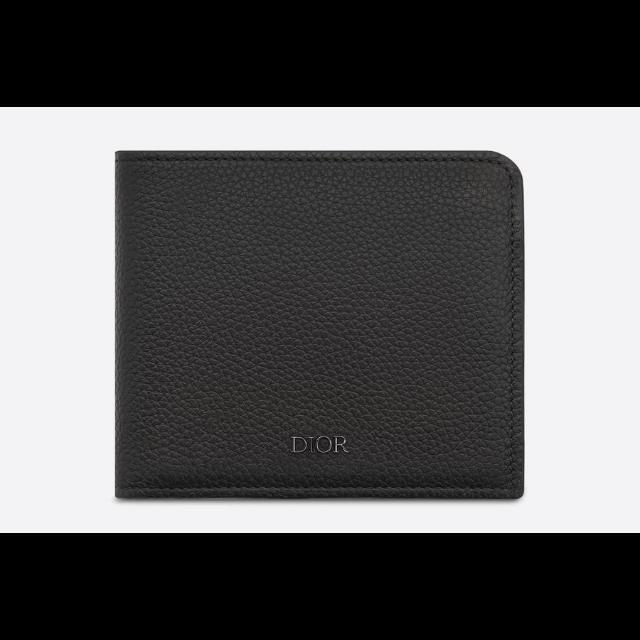wallet: (106, 141, 528, 503)
